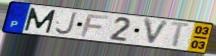2: (109, 16, 132, 43)
F: (79, 14, 111, 38)
J: (53, 11, 78, 36)
M: (23, 7, 57, 34)
T: (169, 21, 194, 49)
V: (142, 17, 172, 48)
